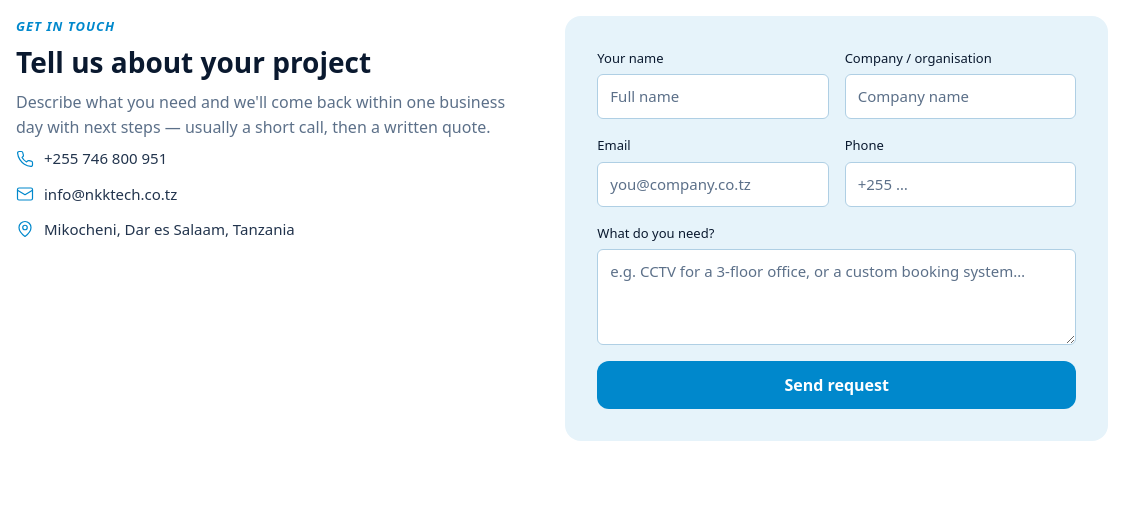
QuoteSection form › shows a send error and keeps the form when the action fails
This screenshot has width=1125, height=514.
In the field labelled "Your name": (713, 97) [597,74,829,119], type "Ada Lovelace"
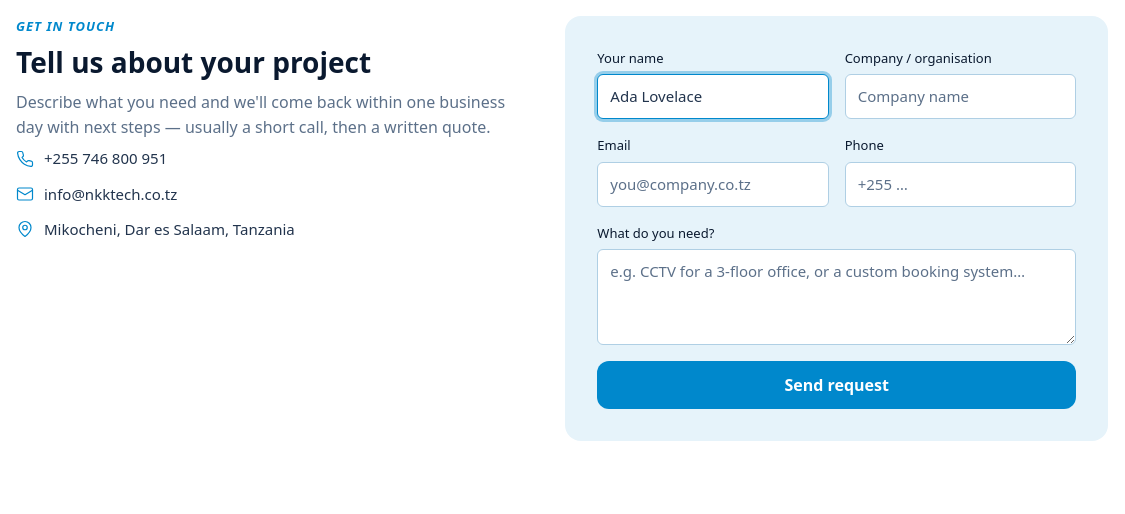
In the text box labelled "What do you need?": (837, 297) [597,249,1076,345], type "A booking system"
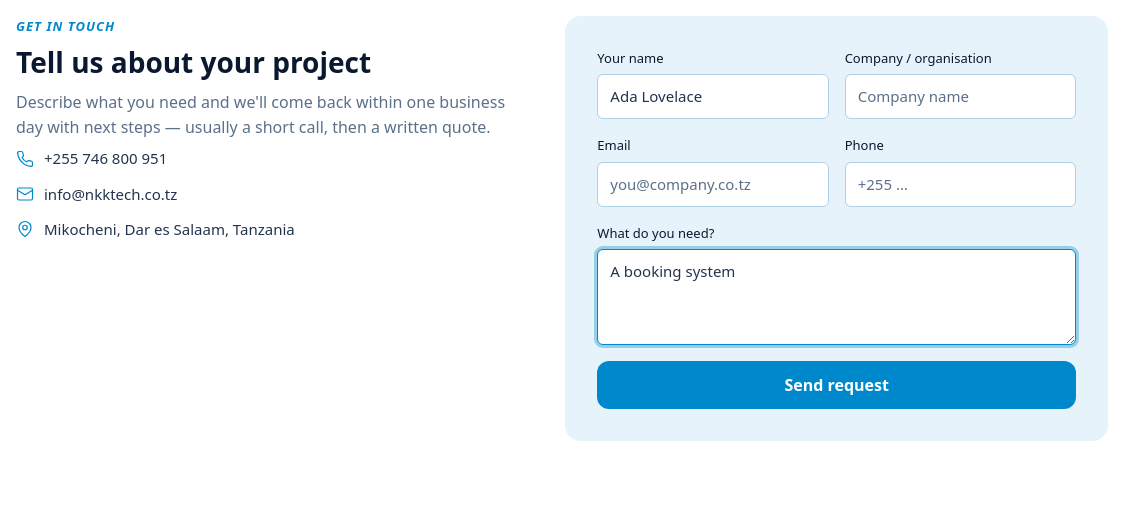
In the field labelled "Phone": (960, 184) [845,162,1076,207], type "+255 746 800 951"
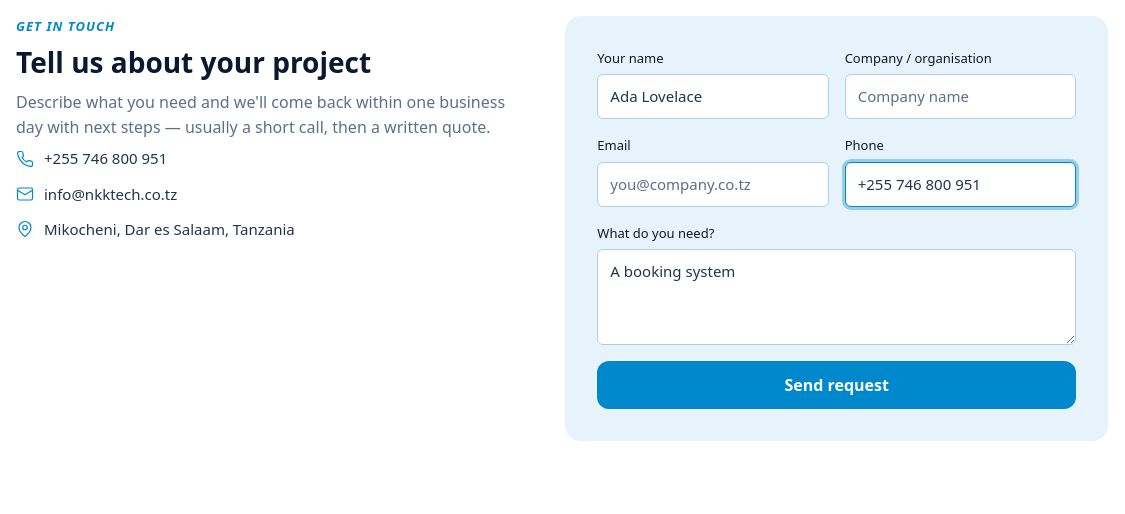
Click the button "Send request": (837, 385) [597,361,1076,409]
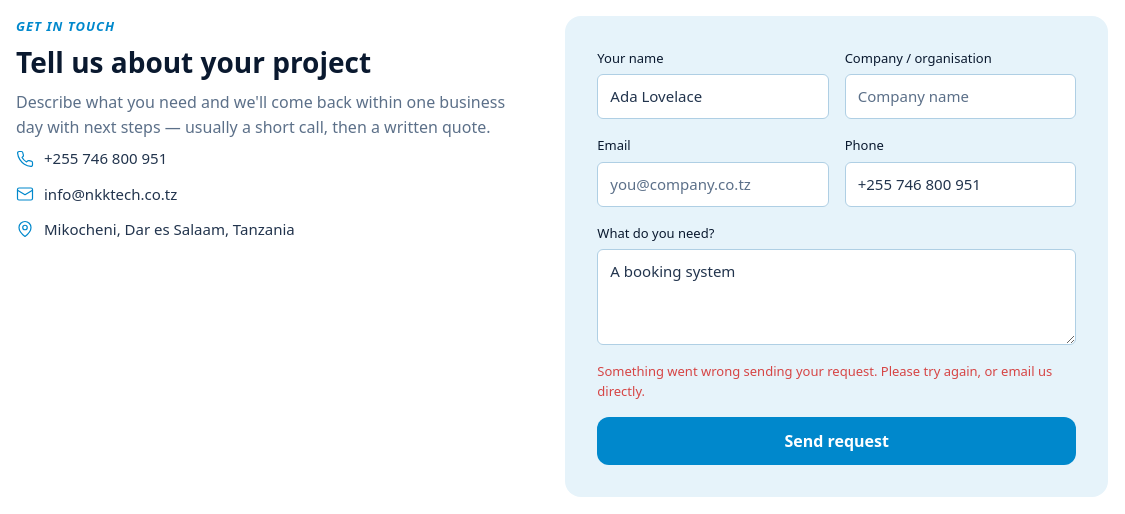
expect the button "Send request" is shown: met, box [597,417,1076,465]
expect the message shows "Something went wrong sending your request. Please try again, or email us directly.": met, box [597,362,1052,400]
